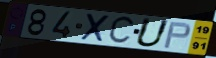4: (50, 10, 73, 40)
8: (27, 9, 47, 37)
C: (106, 15, 137, 46)
P: (162, 21, 192, 50)
U: (133, 17, 172, 49)
X: (78, 13, 111, 44)
